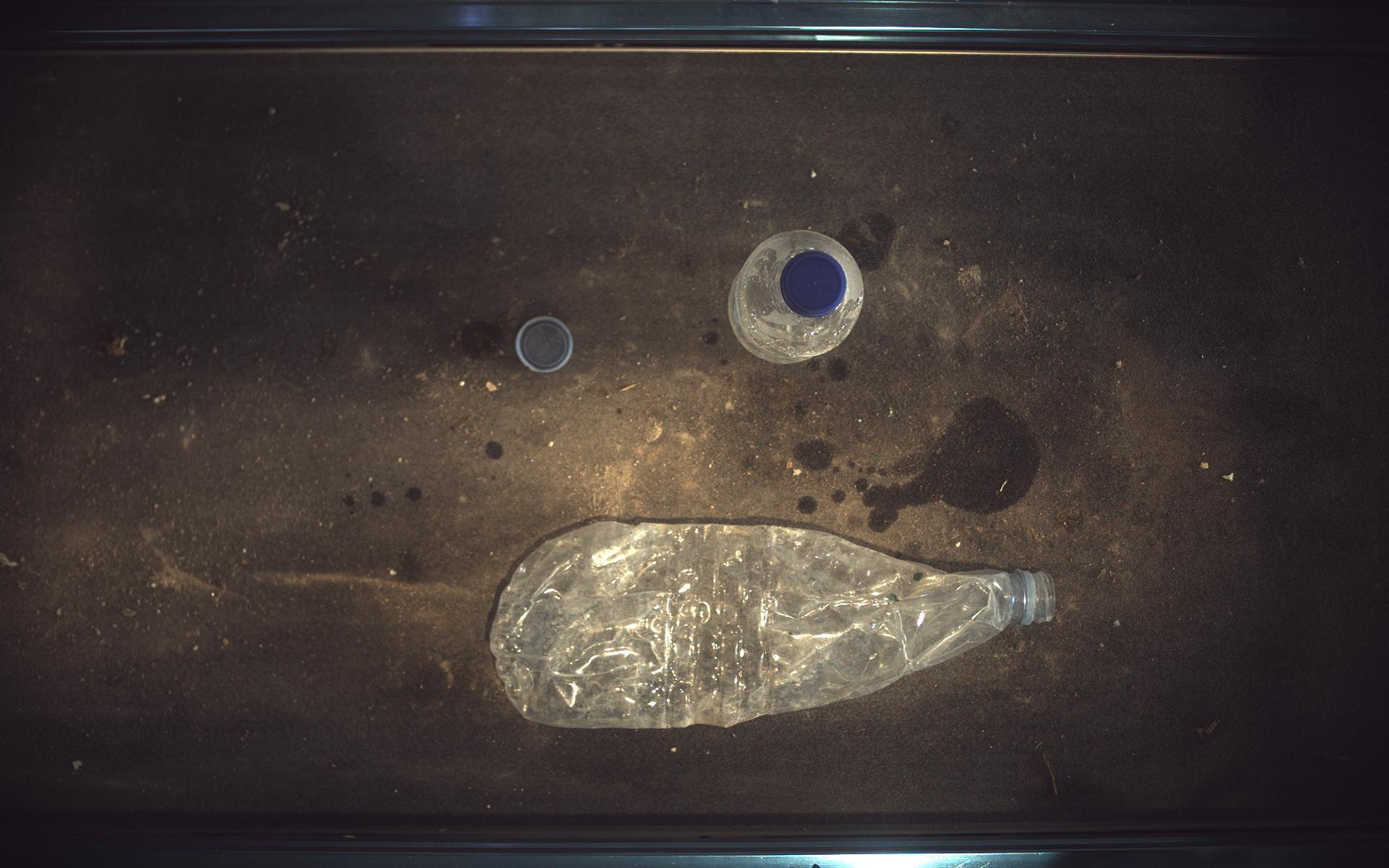general_w: (491, 521, 1058, 730), (731, 230, 865, 364), (515, 315, 574, 373)
